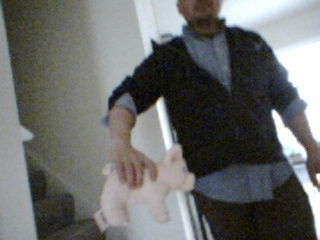piggy: (99, 142, 198, 227)
